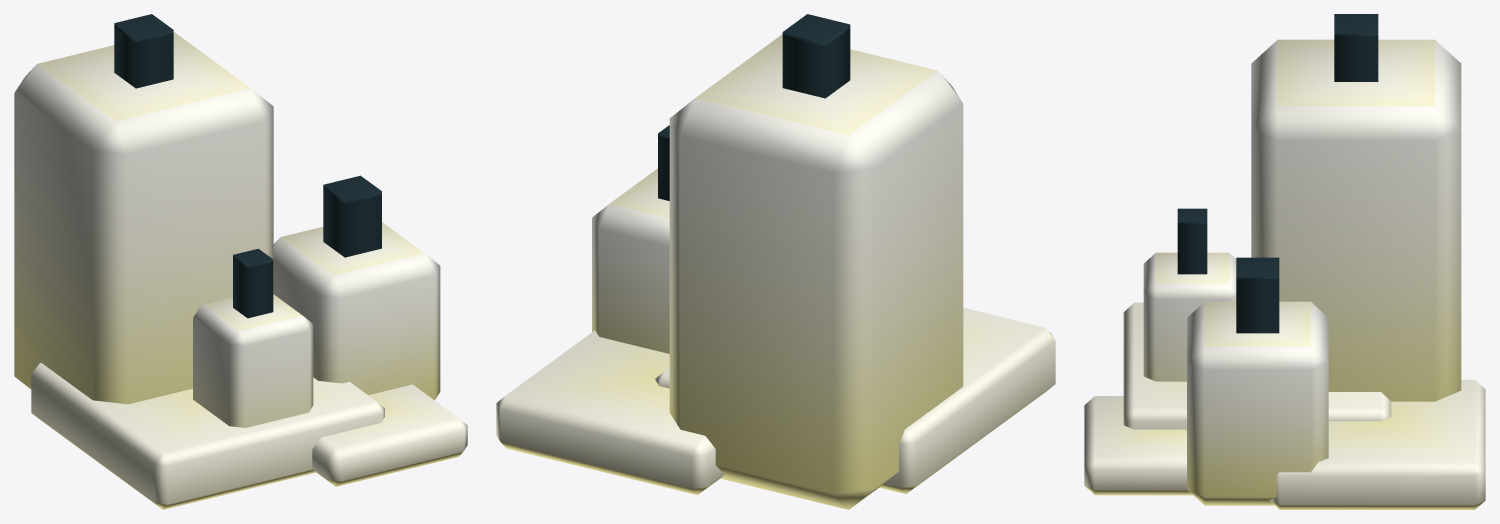
File: candle_arrangement_2.fbx
The picture shows the model from 3 angles, left to right: view 1: azimuth 30°, elevation 25°; view 2: azimuth 150°, elevation 25°; view 3: azimuth 270°, elevation 25°; orthographic projection. The views are drawn at different scales.
Parts seen in each view (by area): view 1: candle_arrangement_2; view 2: candle_arrangement_2; view 3: candle_arrangement_2.
Part boxes in pixels (x1=…): candle_arrangement_2: x1=14, y1=14, x2=467, y2=509; candle_arrangement_2: x1=496, y1=14, x2=1055, y2=509; candle_arrangement_2: x1=1084, y1=14, x2=1485, y2=509.
Size of the model in its own units: 71.48 by 80.1 by 76.36.
1 material, 1 textured.
